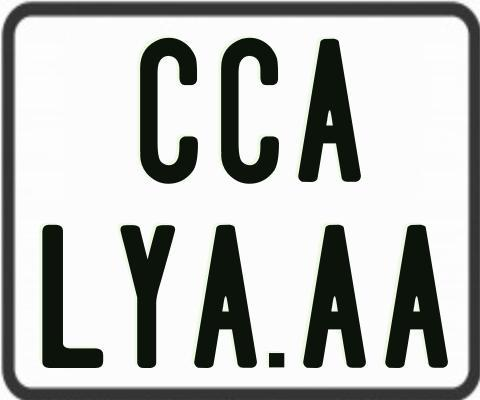A: (193, 223, 258, 367), (385, 224, 449, 369), (296, 36, 359, 181), (302, 222, 365, 366)
C: (221, 38, 281, 190), (139, 36, 198, 183)
L: (39, 224, 103, 367)
Y: (120, 222, 175, 367)
